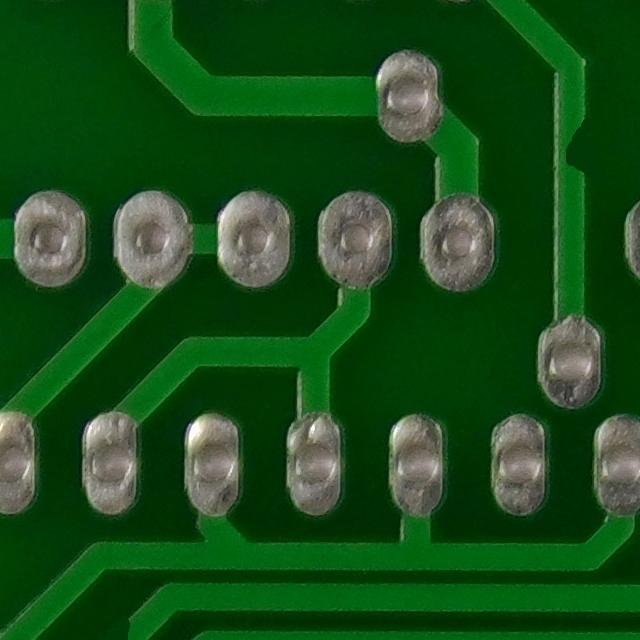mouse_bite: (538, 104, 605, 182)
